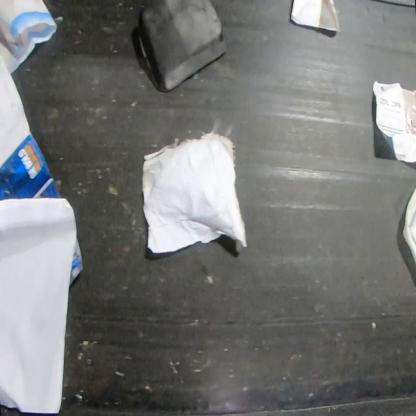rigid_plastic: (137, 1, 231, 93), (403, 187, 416, 271)
